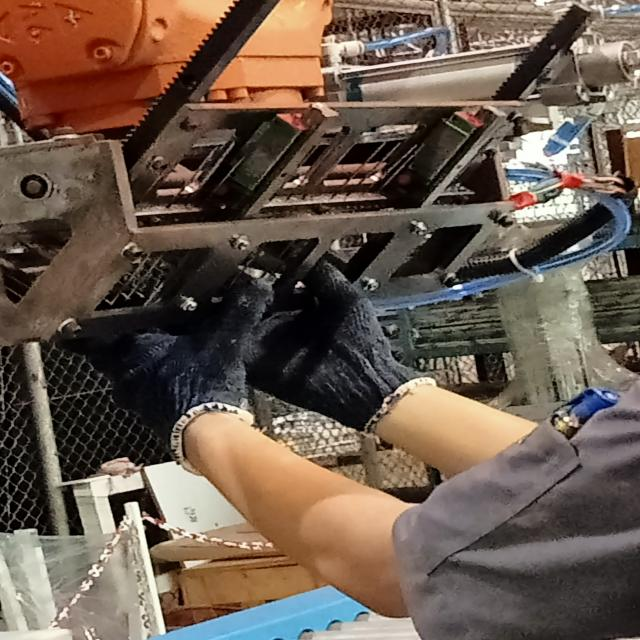Gloves-Detection: (93, 260, 418, 444)
